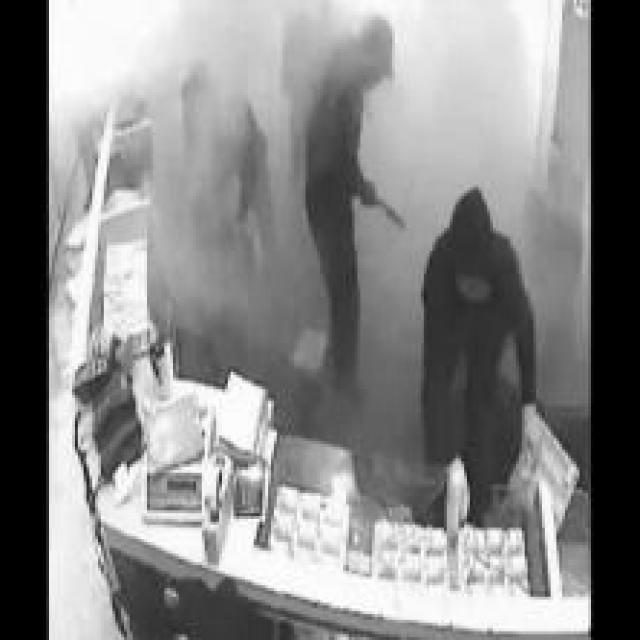fire: (364, 1, 560, 212), (140, 103, 302, 354)
